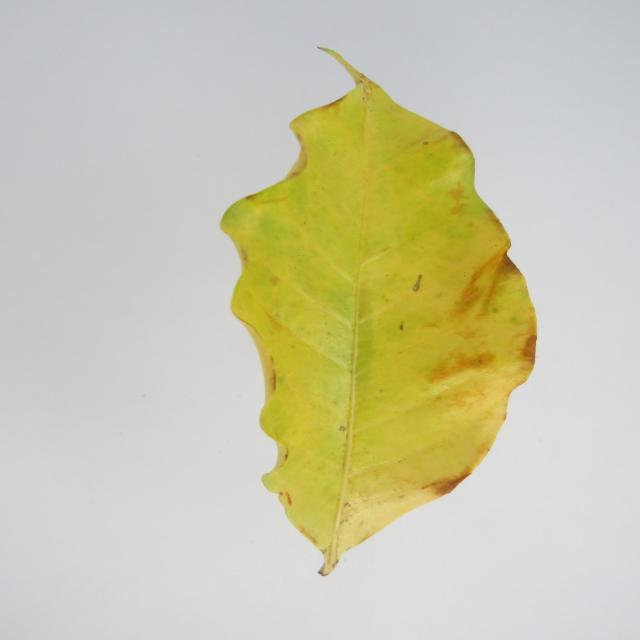DeficienciaNutricional-Calcio: (222, 49, 537, 575)
